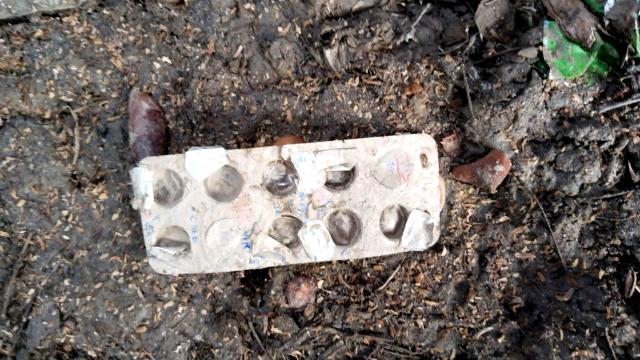medicine: (134, 132, 444, 276)
